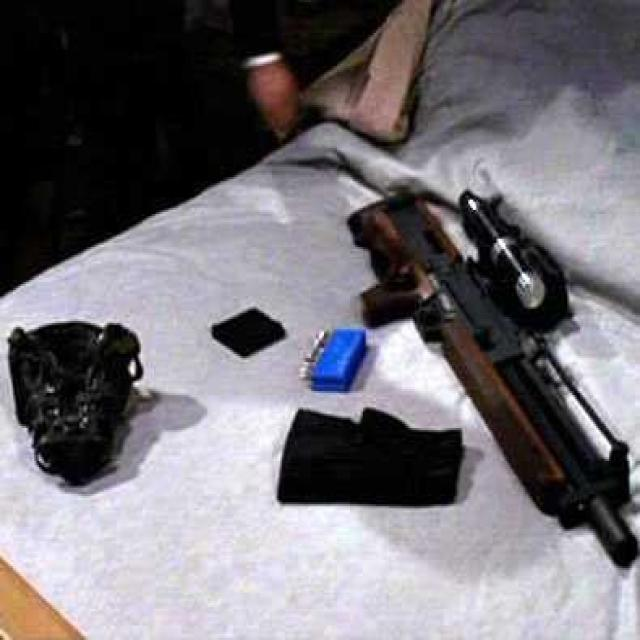heavyweapon: (338, 176, 640, 559)
